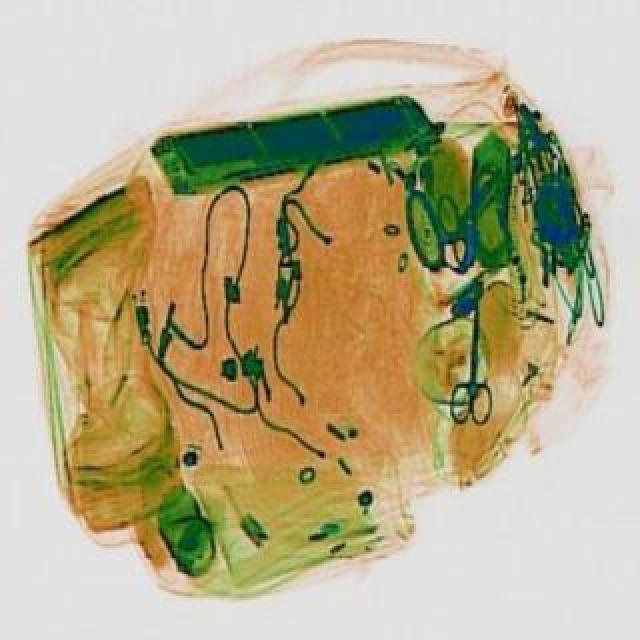pliers: (406, 156, 526, 268), (446, 306, 496, 422)
